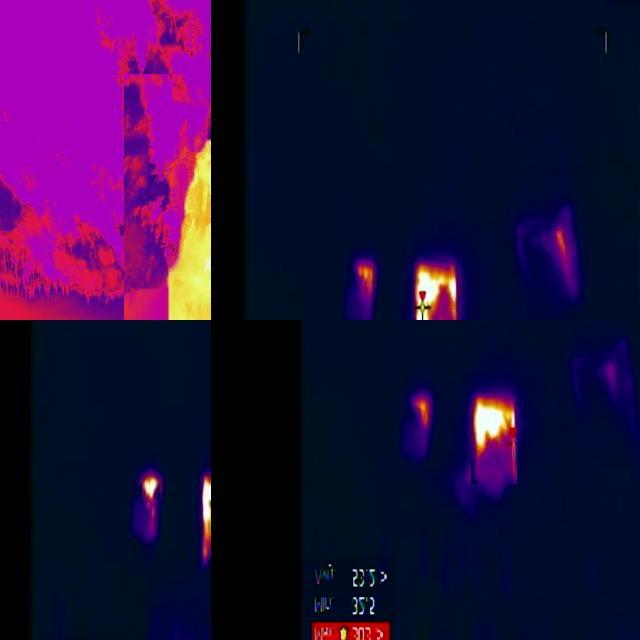fire: (163, 143, 212, 321), (472, 395, 518, 485), (415, 261, 460, 321), (350, 258, 377, 299), (202, 477, 212, 577), (412, 397, 431, 430), (143, 473, 161, 503)
